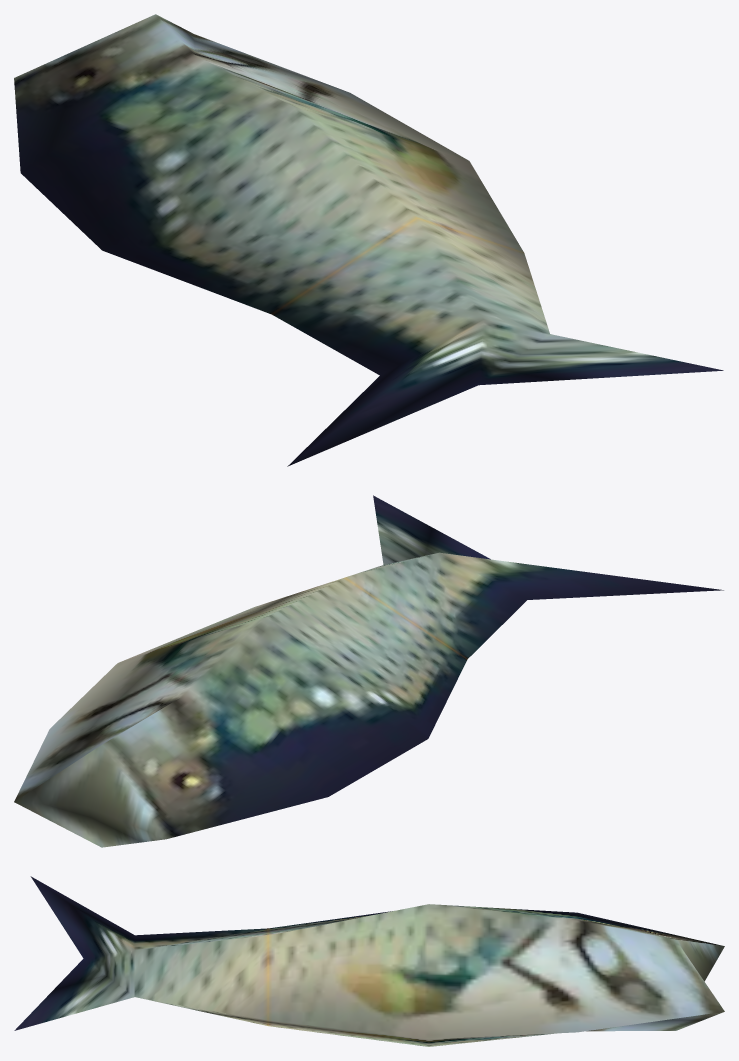
File: fish-uldum-2.glb
3 renders of one model, top to bottom at view 1: azimuth 30°, elevation 25°; view 2: azimuth 150°, elevation 25°; view 3: azimuth 270°, elevation 25°, orthographic. The views are drawn at different scales.
Parts seen in each view (by area): view 1: fish-uldum-2_Geoset0; view 2: fish-uldum-2_Geoset0; view 3: fish-uldum-2_Geoset0.
Part boxes in pixels (bbox=[...]): fish-uldum-2_Geoset0: bbox=[14, 14, 723, 466]; fish-uldum-2_Geoset0: bbox=[14, 495, 723, 847]; fish-uldum-2_Geoset0: bbox=[14, 876, 724, 1046].
Bounding box in the file's own units: 0.5511 × 0.2245 × 1.01.
Materials: 1 (1 with a texture image).
